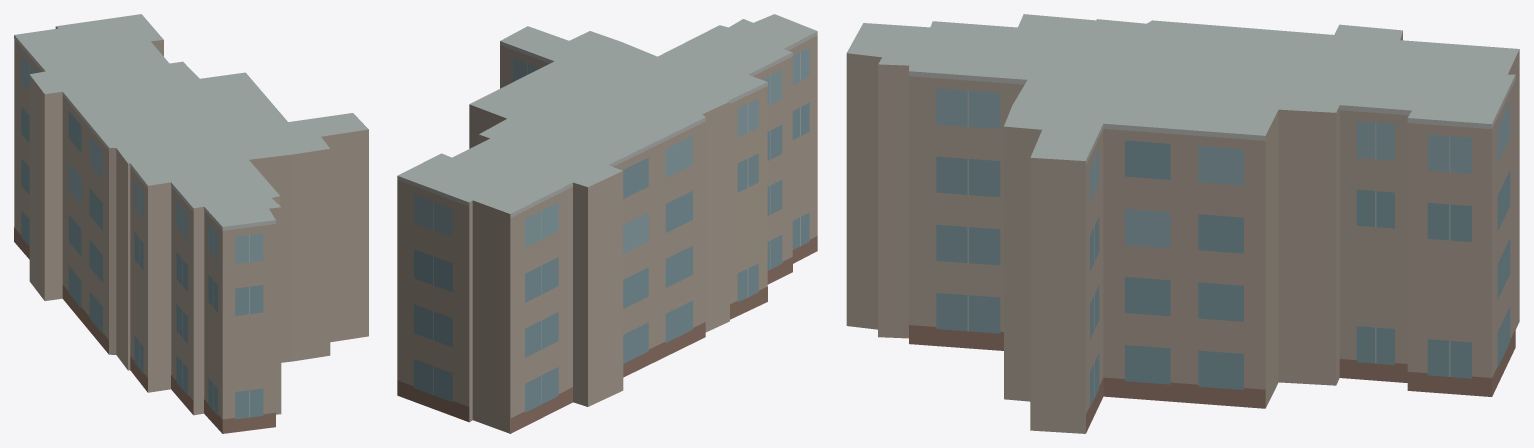
Rendered from survey-upis-32461494.glb.
3 views of the same model, side by side, from view 1: azimuth 30°, elevation 25°; view 2: azimuth 150°, elevation 25°; view 3: azimuth 270°, elevation 25° (orthographic). The views are drawn at different scales.
Parts seen in each view (by area): view 1: survey-upis-32461494.tmp; view 2: survey-upis-32461494.tmp; view 3: survey-upis-32461494.tmp.
Boxes of the visible parts, bbox=[...] form: survey-upis-32461494.tmp: bbox=[14, 14, 368, 433]; survey-upis-32461494.tmp: bbox=[397, 14, 817, 433]; survey-upis-32461494.tmp: bbox=[846, 14, 1519, 433].
Size of the model in its own units: 15.38 by 13.3 by 29.74.
